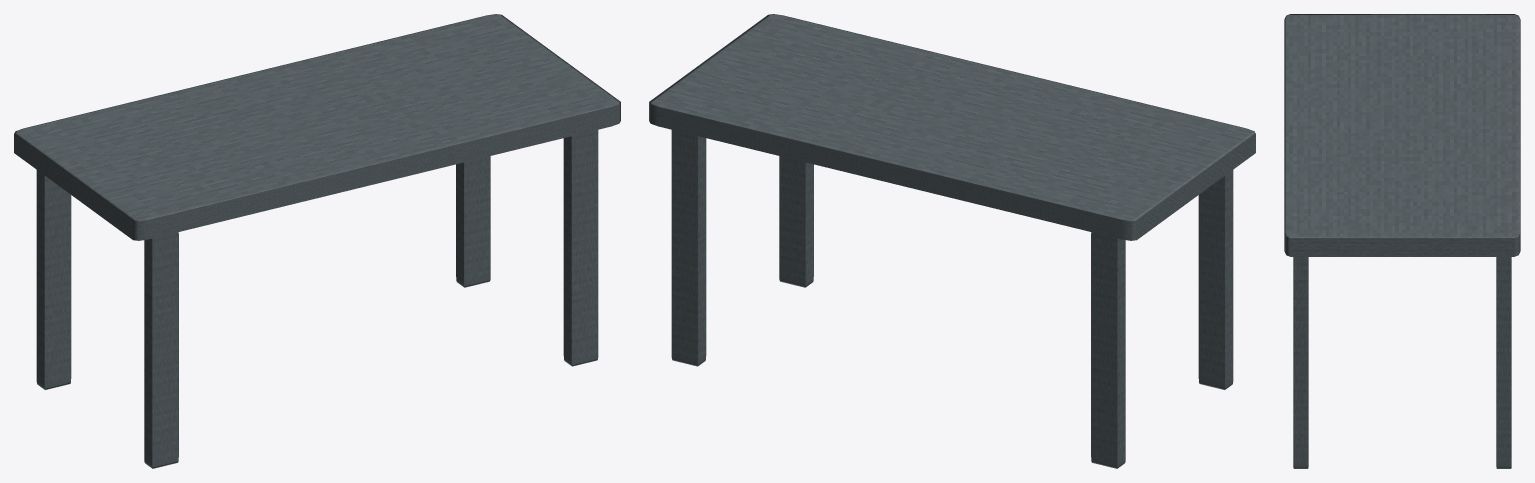
File: workbench.glb
3 renders of one model, left to right at view 1: azimuth 30°, elevation 25°; view 2: azimuth 150°, elevation 25°; view 3: azimuth 270°, elevation 25°, orthographic. The views are drawn at different scales.
Parts seen in each view (by area): view 1: top, leg (×4); view 2: top, leg (×4); view 3: top, leg (×2).
Boxes of the visible parts, x1,y1,x2,y2 form: top: (14, 14, 620, 240); leg (×4): (36, 130, 598, 468); top: (649, 14, 1255, 240); leg (×4): (671, 130, 1233, 468); top: (1284, 14, 1520, 256); leg (×2): (1293, 257, 1511, 468).
Size of the model in its own units: 1.8 by 0.9 by 0.8.
1 material, 1 textured.
